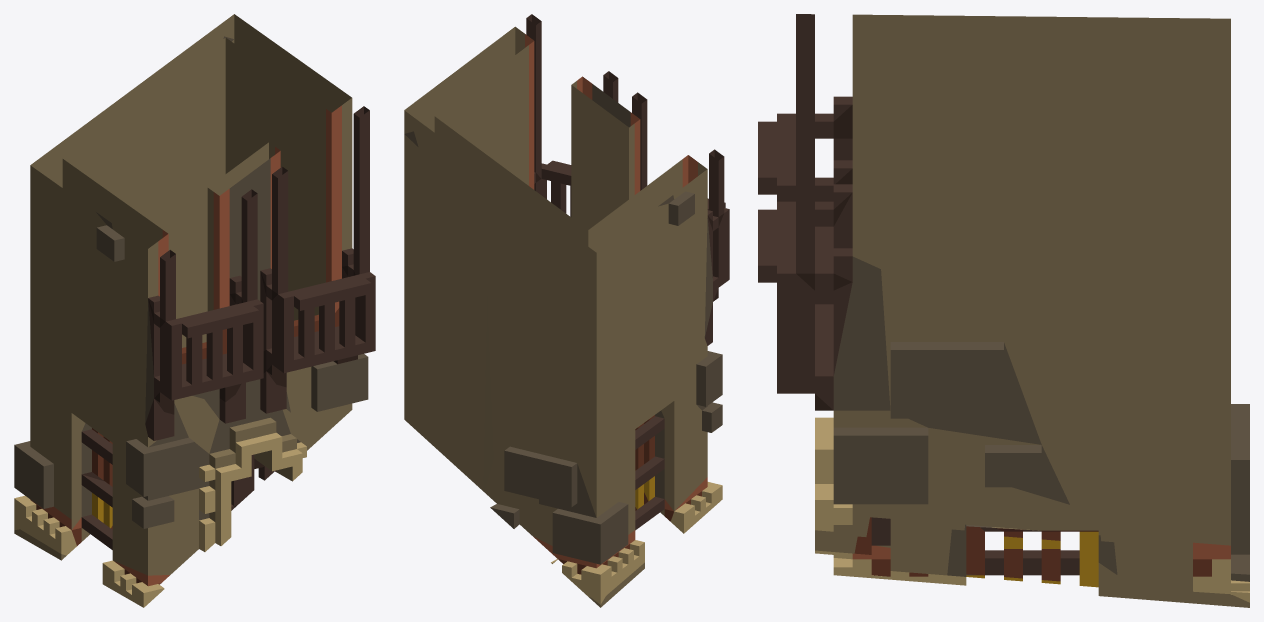
Rendered from tallBuilding_01_mid.obj.
3 views of the same model, side by side, from view 1: azimuth 30°, elevation 25°; view 2: azimuth 150°, elevation 25°; view 3: azimuth 270°, elevation 25° (orthographic). The views are drawn at different scales.
Parts seen in each view (by area): view 1: Untitled; view 2: Untitled; view 3: Untitled.
Part boxes in pixels (left/top/right/bottom): Untitled: left=14, top=14, right=375, bottom=607; Untitled: left=404, top=14, right=729, bottom=607; Untitled: left=758, top=14, right=1249, bottom=607.
Size of the model in its own units: 2.2 by 4.44 by 2.6.
